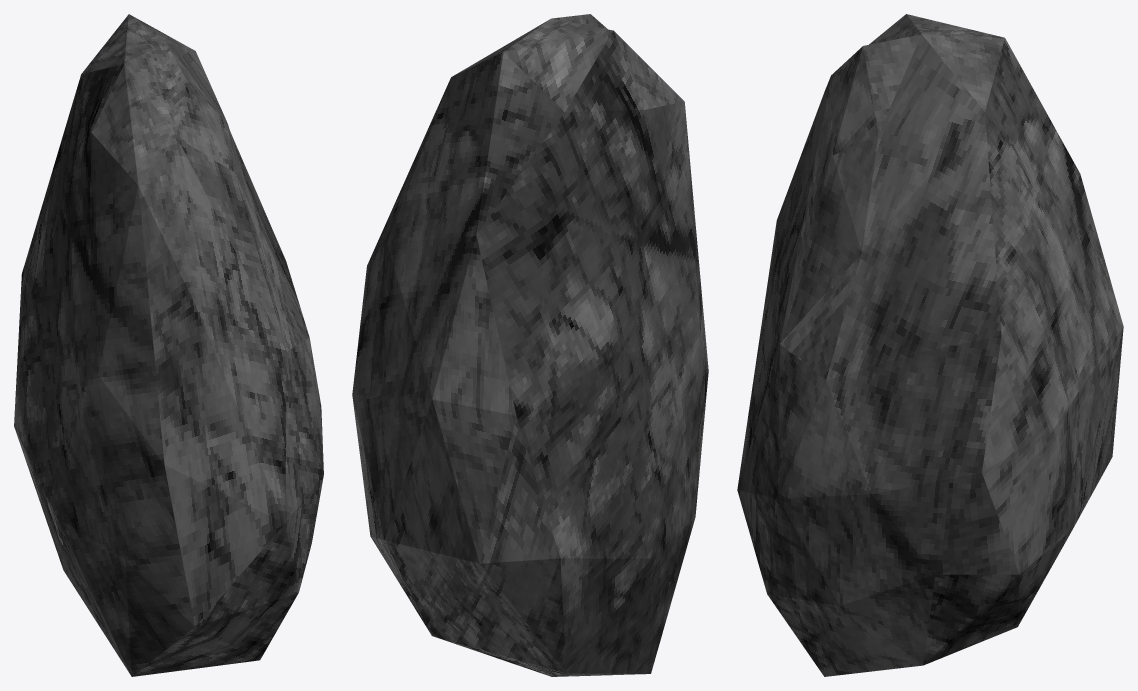
The model's file is rock1.glb.
3 views of the same model, side by side, from view 1: azimuth 30°, elevation 25°; view 2: azimuth 150°, elevation 25°; view 3: azimuth 270°, elevation 25° (orthographic). The views are drawn at different scales.
Visible parts, largest first — view 1: Icosphere.002; view 2: Icosphere.002; view 3: Icosphere.002.
Boxes of the visible parts, x1=… form: Icosphere.002: x1=14, y1=14, x2=323, y2=676; Icosphere.002: x1=352, y1=14, x2=708, y2=676; Icosphere.002: x1=737, y1=14, x2=1123, y2=676.
Bounding box in the file's own units: 7.54 × 17.71 × 9.96.
1 material, 1 textured.
